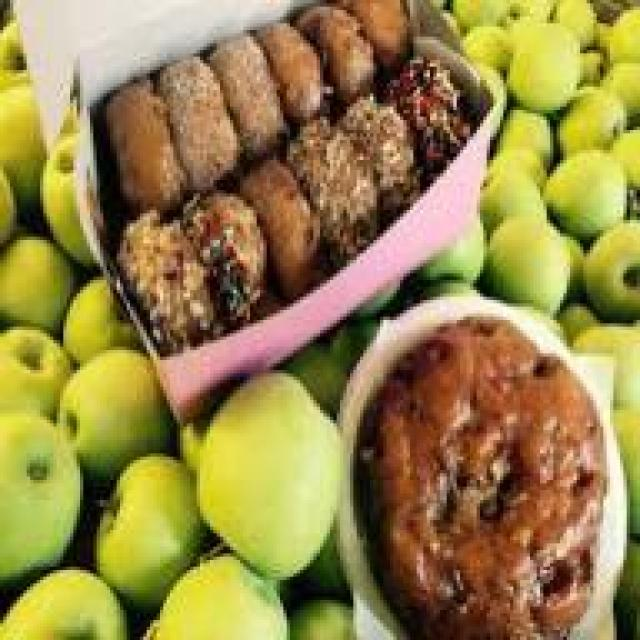apple: (200, 387, 337, 550), (53, 346, 167, 466), (90, 463, 200, 577), (170, 547, 297, 633), (3, 563, 110, 637), (476, 217, 566, 303), (543, 150, 630, 230), (3, 237, 77, 330), (554, 77, 624, 160), (3, 320, 67, 410), (517, 23, 583, 110), (67, 273, 133, 360), (483, 160, 550, 227)
